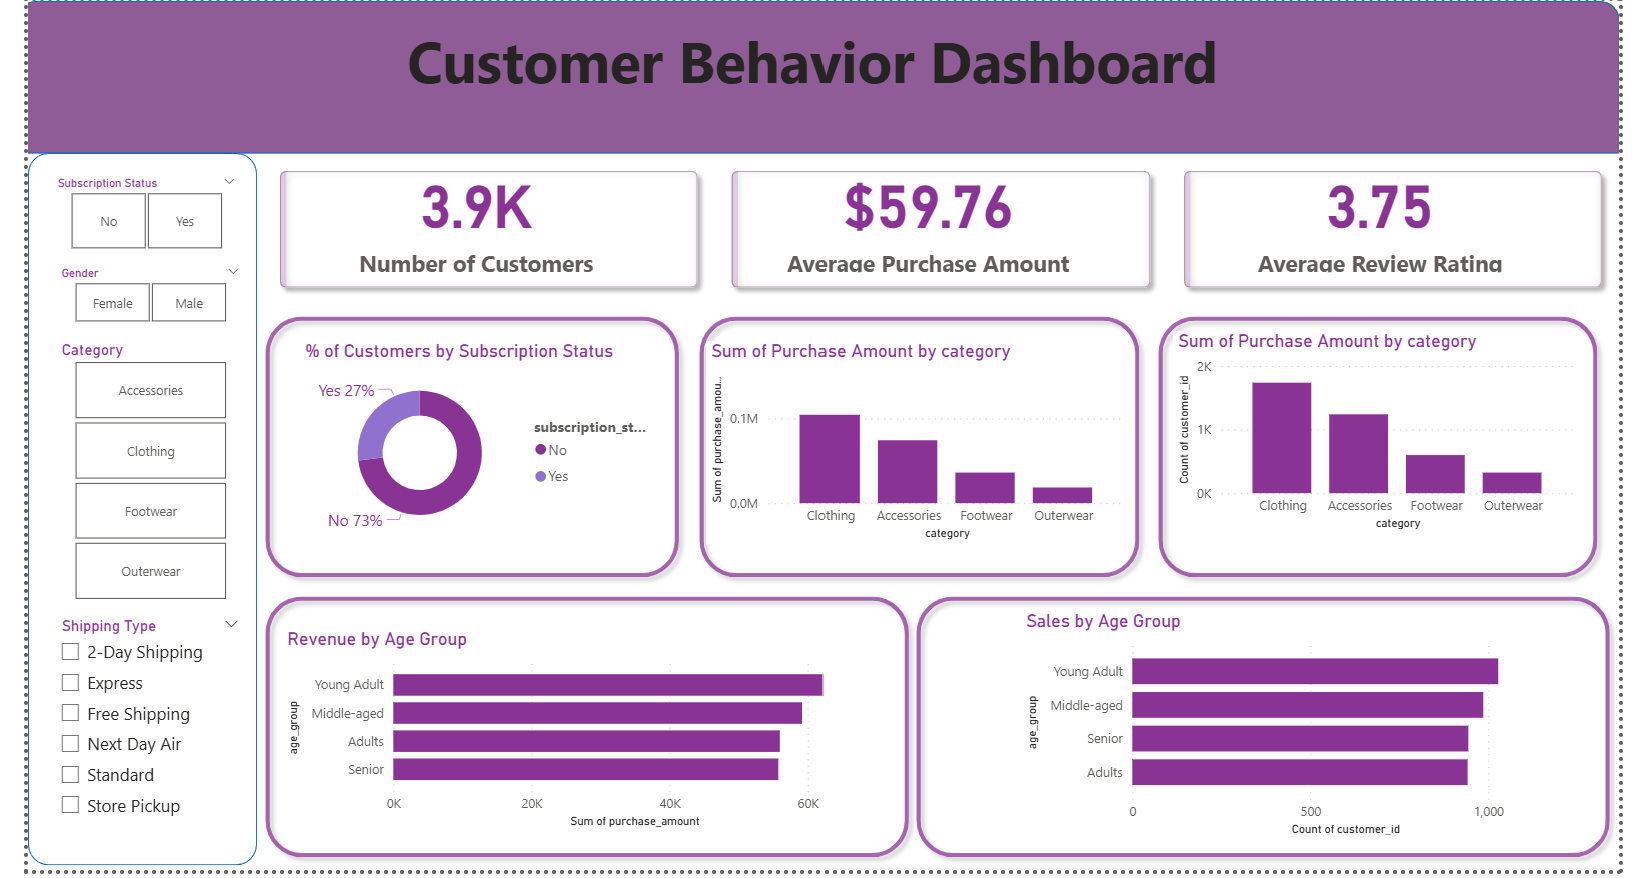

The page's visual inventory and layout, read from the dashboard file:
{"tool":"powerbi","page":{"name":"Page 1","canvas":[1500,820],"ordinal":0},"visuals":[{"type":"cardVisual","fields":{"Data":["Sheet1.Number of Customers","Sheet1.Average Purchase Amount","Sheet1.Average Review Rating"]},"box":[216,144,1272,144],"z":0},{"type":"shape","box":[-12,0,1512,144],"z":1000},{"type":"textbox","box":[272,32,800,112],"z":2000},{"type":"shape","box":[216,288,408,264],"z":3000},{"type":"donutChart","title":"% of Customers by Subscription Status","fields":{"Category":["Sheet1.subscription_status"],"Y":["Sheet1.Number of Customers"]},"box":[264,312,336,192],"z":4000},{"type":"shape","box":[624,288,432,264],"z":5000},{"type":"shape","box":[1056,288,432,264],"z":6000},{"type":"clusteredColumnChart","title":"Sum of Purchase Amount by category","fields":{"Category":["Sheet1.category"],"Y":["Sum(Sheet1.purchase_amount)"]},"box":[648,312,384,192],"z":7000},{"type":"clusteredColumnChart","title":"Sum of Purchase Amount by category","fields":{"Category":["Sheet1.category"],"Y":["CountNonNull(Sheet1.customer_id)"]},"box":[1080,312,384,192],"z":8000},{"type":"shape","box":[0,144,216,672],"z":9000},{"type":"slicer","fields":{"Values":["Sheet1.category"]},"box":[16,320,192,256],"z":10000},{"type":"slicer","fields":{"Values":["Sheet1.subscription_status"]},"box":[16,144,192,80],"z":11000},{"type":"slicer","fields":{"Values":["Sheet1.gender"]},"box":[16,224,192,64],"z":12000},{"type":"slicer","fields":{"Values":["Sheet1.shipping_type"]},"box":[16,576,192,224],"z":13000},{"type":"clusteredBarChart","title":"Revenue by Age Group","fields":{"Y":["Sum(Sheet1.purchase_amount)"],"Category":["Sheet1.age_group"]},"box":[264,576,576,192],"z":14000},{"type":"shape","box":[828,552,672,264],"z":15000},{"type":"shape","box":[216,552,624,264],"z":16000},{"type":"clusteredBarChart","title":"Sales by Age Group","fields":{"Category":["Sheet1.age_group"],"Y":["CountNonNull(Sheet1.customer_id)"]},"box":[936,576,528,216],"z":17000}]}

Visuals, with their boxes in screenshot pixels (x1, y1, x2, y2), scaled from the page's 1500x820 canvas onto the 1640x878 screenshot:
cardVisual - Sheet1.Number of Customers x Sheet1.Average Purchase Amount: {"left": 236, "top": 154, "right": 1627, "bottom": 308}
shape: {"left": 0, "top": 0, "right": 1639, "bottom": 154}
textbox: {"left": 297, "top": 34, "right": 1172, "bottom": 154}
shape: {"left": 236, "top": 308, "right": 682, "bottom": 591}
"% of Customers by Subscription Status" donutChart: {"left": 289, "top": 334, "right": 656, "bottom": 540}
shape: {"left": 682, "top": 308, "right": 1155, "bottom": 591}
shape: {"left": 1155, "top": 308, "right": 1627, "bottom": 591}
"Sum of Purchase Amount by category" clusteredColumnChart: {"left": 708, "top": 334, "right": 1128, "bottom": 540}
"Sum of Purchase Amount by category" clusteredColumnChart: {"left": 1181, "top": 334, "right": 1601, "bottom": 540}
shape: {"left": 0, "top": 154, "right": 236, "bottom": 874}
slicer - Sheet1.category: {"left": 17, "top": 343, "right": 227, "bottom": 617}
slicer - Sheet1.subscription_status: {"left": 17, "top": 154, "right": 227, "bottom": 240}
slicer - Sheet1.gender: {"left": 17, "top": 240, "right": 227, "bottom": 308}
slicer - Sheet1.shipping_type: {"left": 17, "top": 617, "right": 227, "bottom": 857}
"Revenue by Age Group" clusteredBarChart: {"left": 289, "top": 617, "right": 918, "bottom": 822}
shape: {"left": 905, "top": 591, "right": 1639, "bottom": 874}
shape: {"left": 236, "top": 591, "right": 918, "bottom": 874}
"Sales by Age Group" clusteredBarChart: {"left": 1023, "top": 617, "right": 1601, "bottom": 848}
